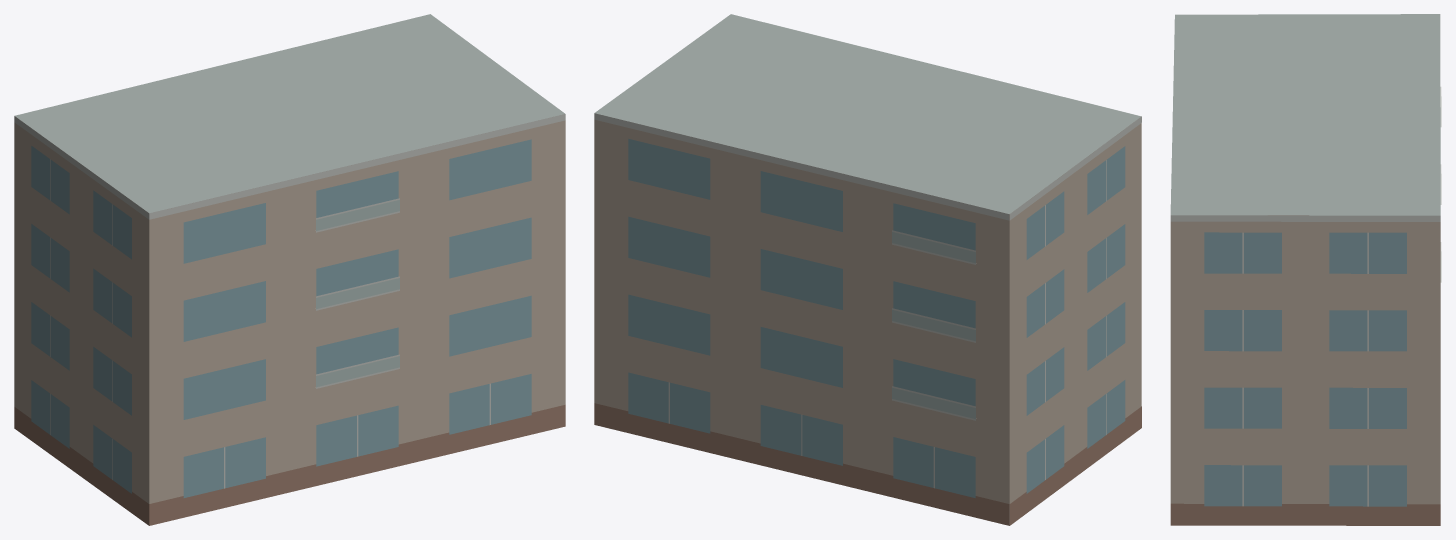
The model's file is survey-upis-32669307.glb.
The picture shows the model from 3 angles, left to right: view 1: azimuth 30°, elevation 25°; view 2: azimuth 150°, elevation 25°; view 3: azimuth 270°, elevation 25°; orthographic projection.
Parts seen in each view (by area): view 1: survey-upis-32669307.tmp; view 2: survey-upis-32669307.tmp; view 3: survey-upis-32669307.tmp.
Part boxes in pixels (x1=…): survey-upis-32669307.tmp: x1=14, y1=14, x2=565, y2=525; survey-upis-32669307.tmp: x1=594, y1=14, x2=1141, y2=525; survey-upis-32669307.tmp: x1=1170, y1=14, x2=1441, y2=525.
Size of the model in its own units: 16.46 by 11.8 by 9.35.
